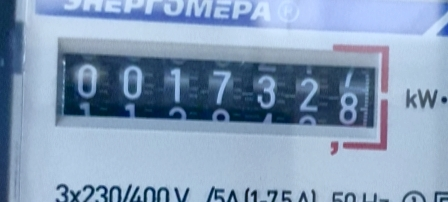0: (74, 60, 101, 100), (122, 62, 145, 100)
1: (166, 64, 185, 104)
2: (298, 75, 321, 112)
3: (256, 73, 279, 109)
7: (211, 67, 233, 106)
8: (339, 89, 358, 124)
screen: (45, 34, 400, 157)
